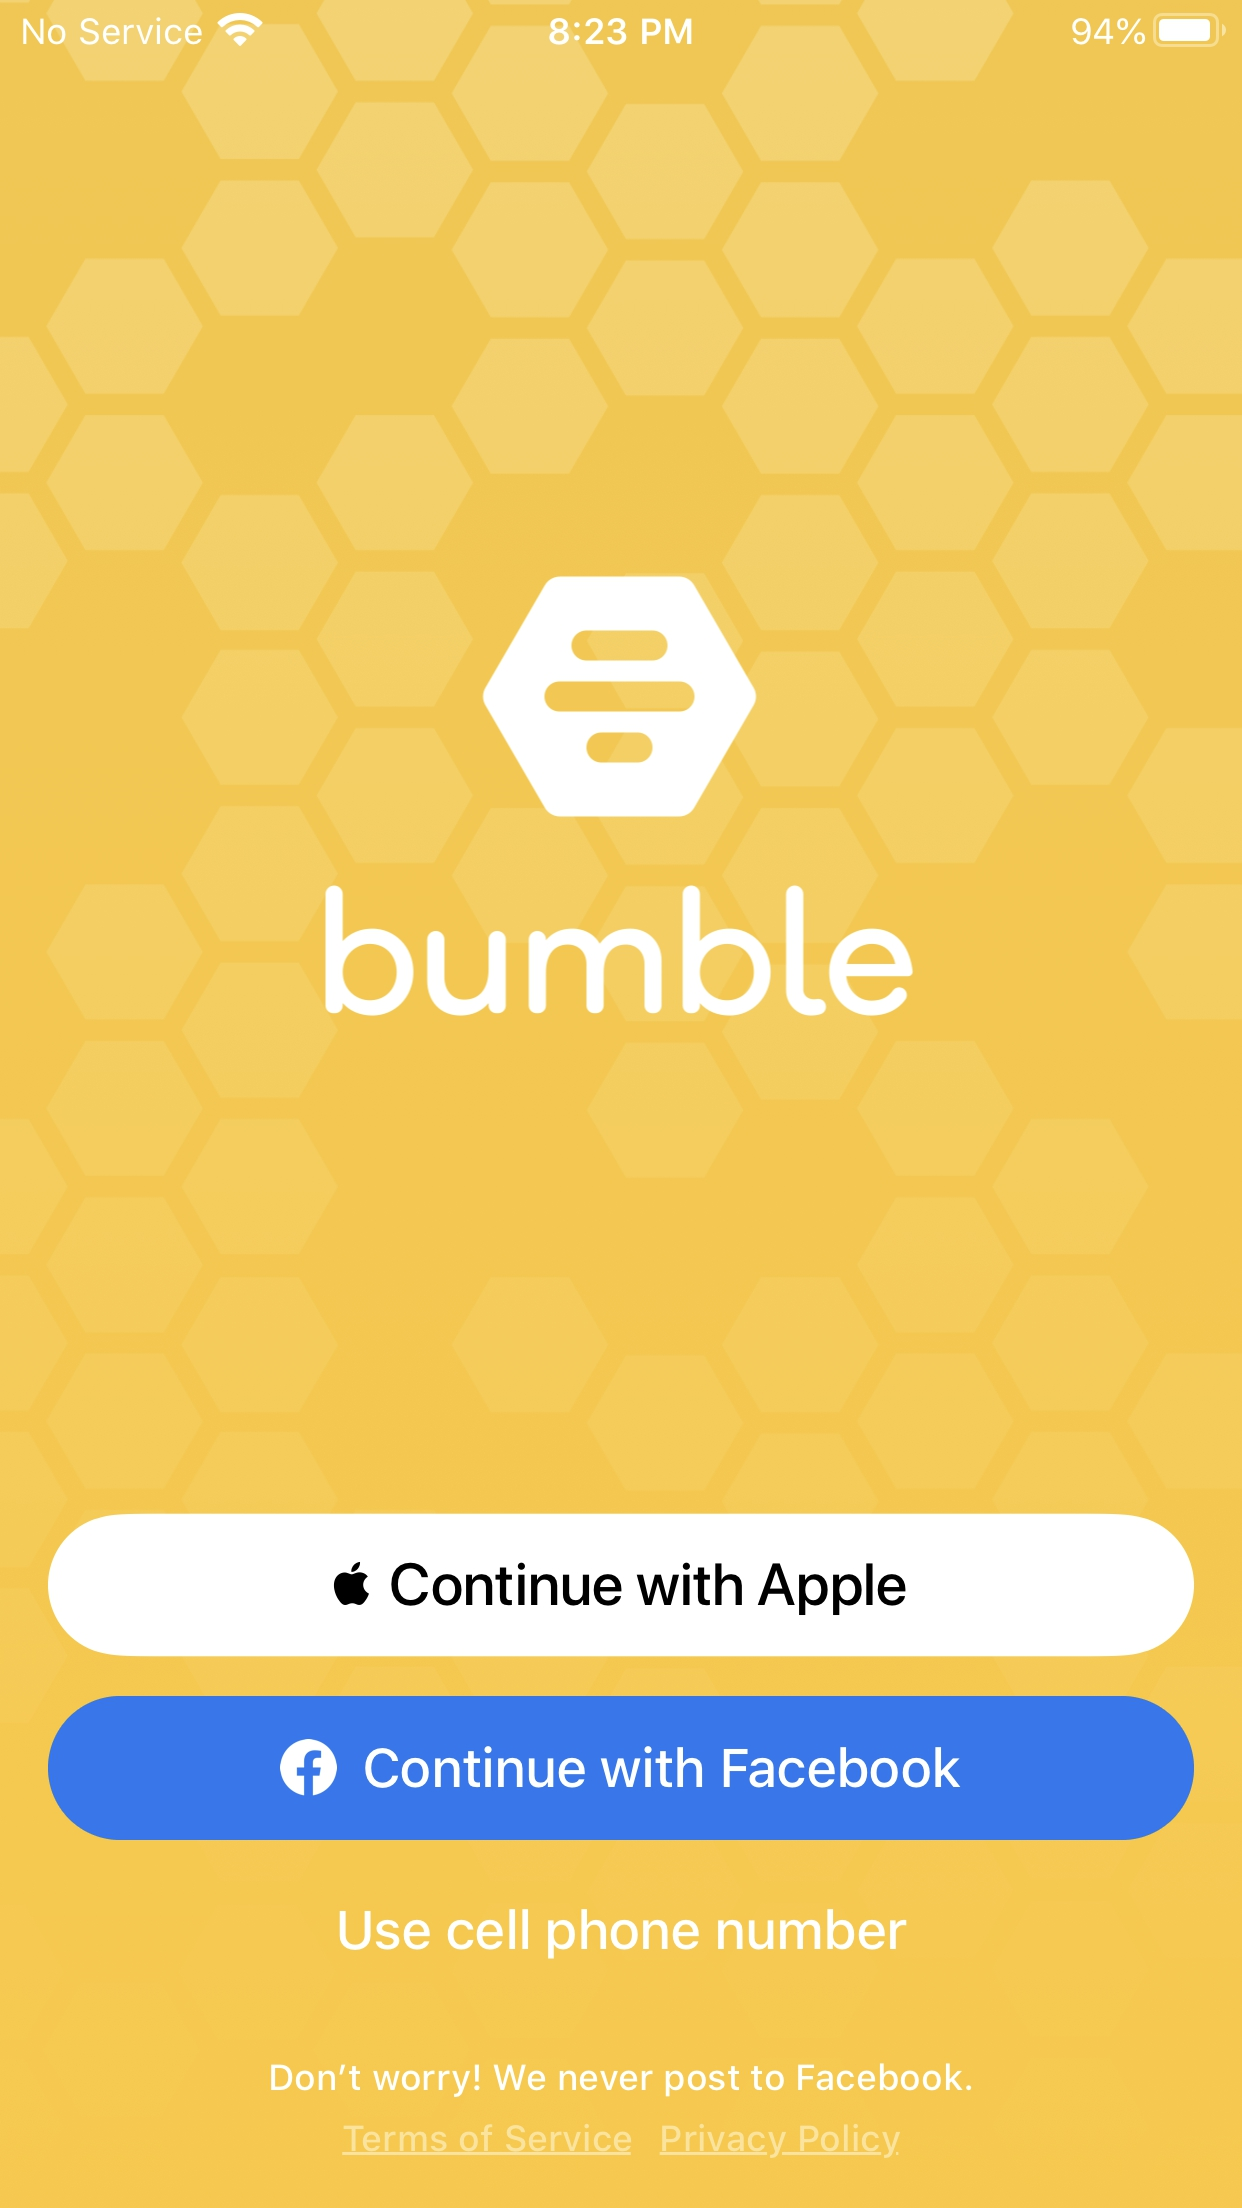BackgroundImage: (2, 2, 1242, 2208)
Image: (482, 576, 758, 817)
Text: (325, 886, 913, 1018), (271, 2062, 971, 2097), (343, 2125, 901, 2159)
TextButton: (49, 1695, 1193, 1839), (49, 1513, 1195, 1656), (340, 1909, 905, 1959)
UpperTaskBar: (2, 2, 1242, 49)
